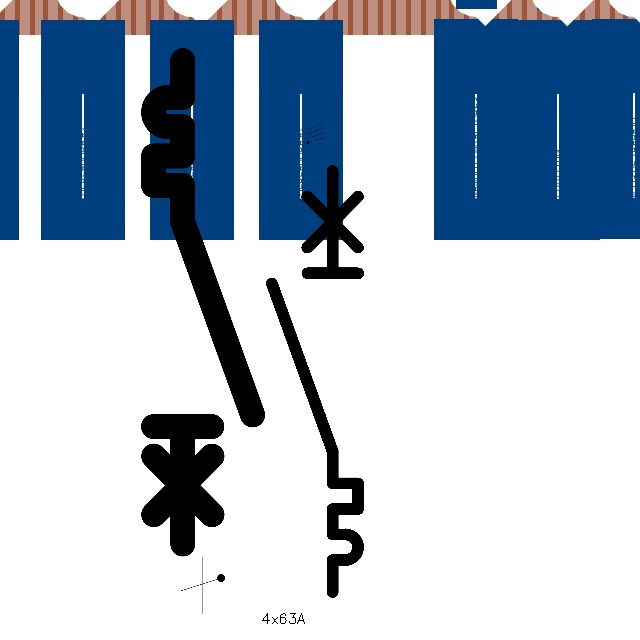interruptor_termomagnetico: (141, 48, 265, 556), (261, 160, 369, 603)
